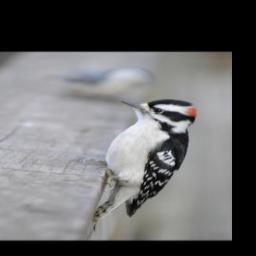Woodpecker: (89, 92, 208, 232)
